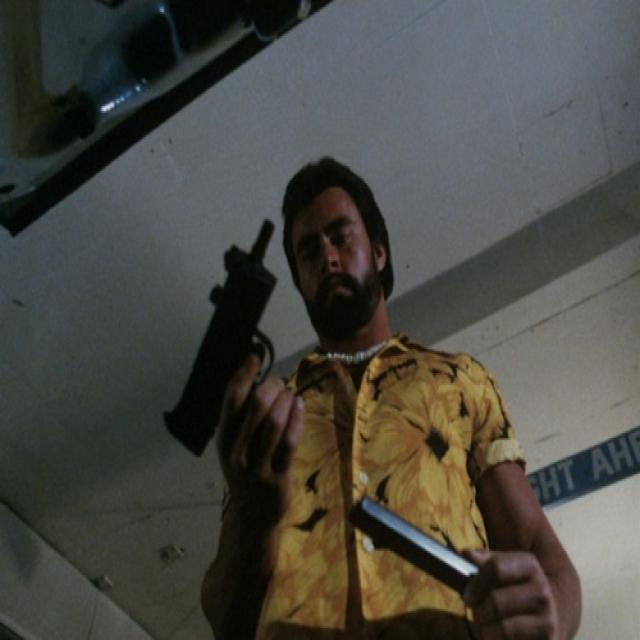weapons: (153, 204, 323, 484)
